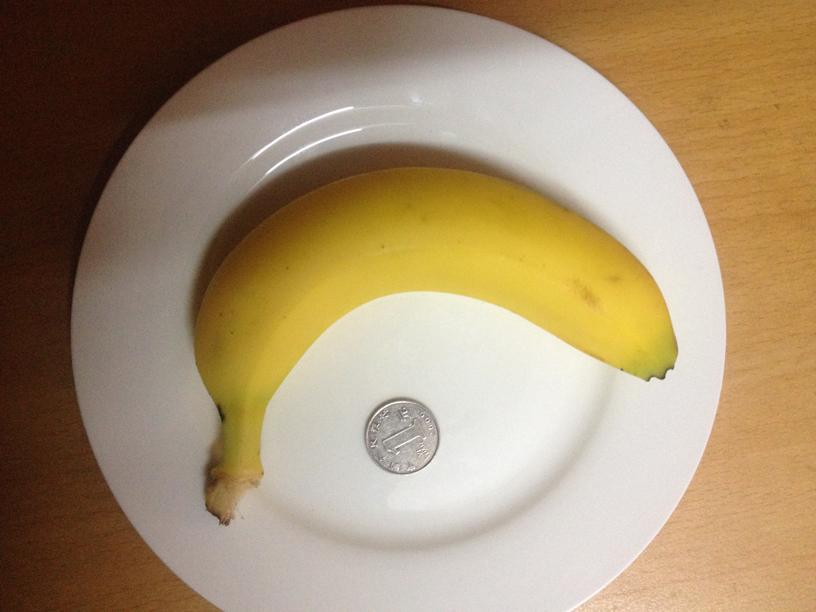banana: (180, 164, 680, 501)
coin: (366, 400, 438, 474)
